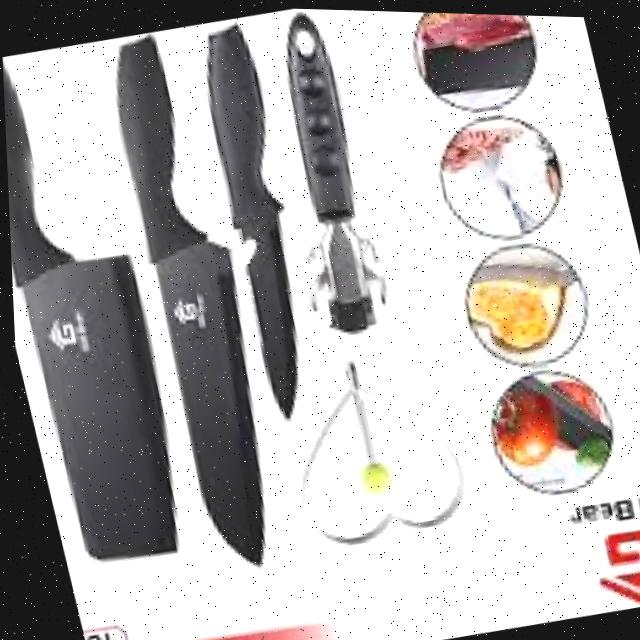knife: (90, 24, 298, 569), (1, 40, 198, 570), (182, 16, 335, 419)
